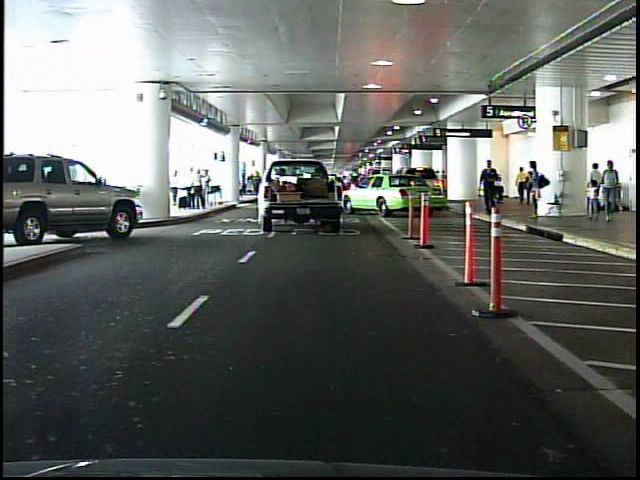person: (479, 156, 501, 217), (526, 157, 546, 222)
